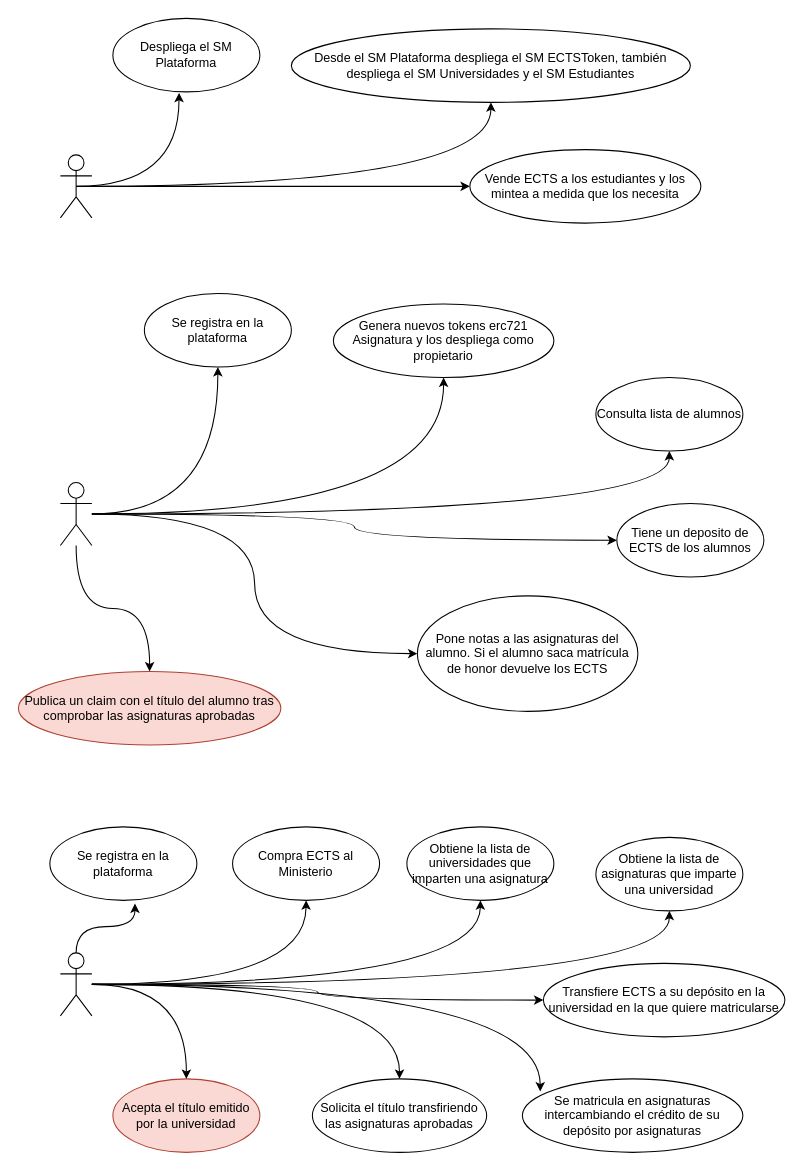
Some shapes in this 803 by 1171 pixel diagram are drawn without their labels. The shapes that lost their labels are listed below. From the top down, each one's centre as x and y in pixels, then its label:
point 75,186: Ministerio
point 75,513: Universidad
point 75,984: Alumno
